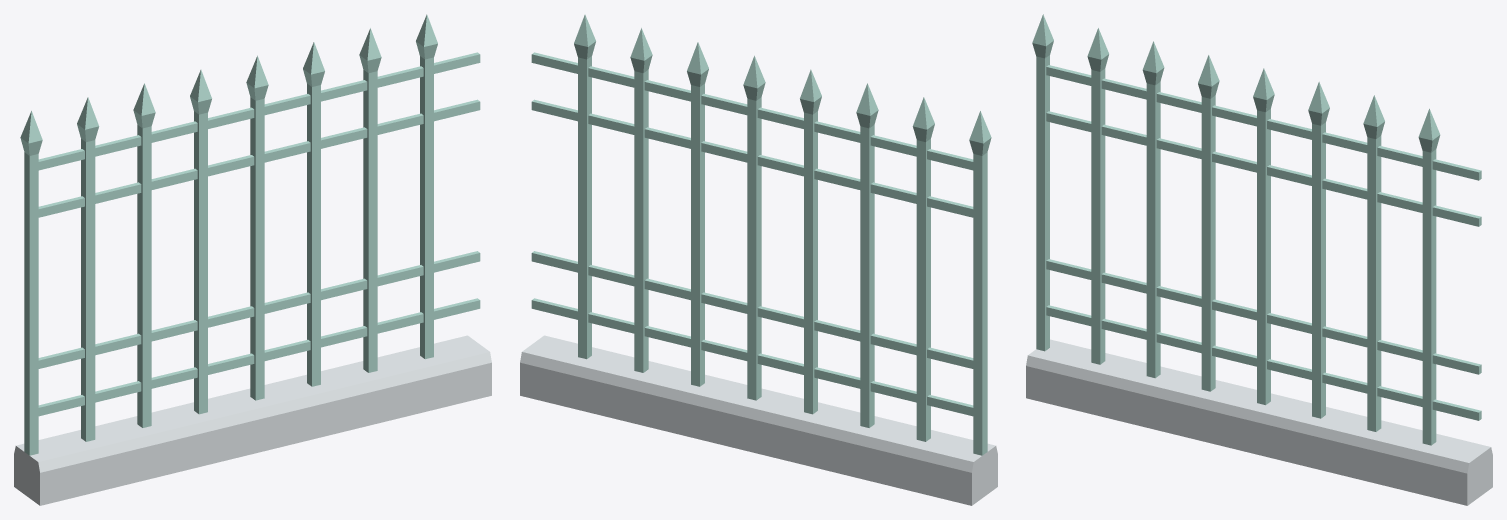
File: fenceIronBorder.glb
The picture shows the model from 3 angles, left to right: view 1: azimuth 30°, elevation 25°; view 2: azimuth 150°, elevation 25°; view 3: azimuth 330°, elevation 25°; orthographic projection. The views are drawn at different scales.
Visible parts, largest first — view 1: bar (×12), fenceIronBorder(Clone); view 2: bar (×12), fenceIronBorder(Clone); view 3: bar (×12), fenceIronBorder(Clone).
Part boxes in pixels (left/top/right/bottom): bar (×12): left=20, top=14, right=480, bottom=455; fenceIronBorder(Clone): left=14, top=335, right=491, bottom=505; bar (×12): left=531, top=14, right=991, bottom=455; fenceIronBorder(Clone): left=520, top=335, right=997, bottom=505; bar (×12): left=1032, top=14, right=1481, bottom=445; fenceIronBorder(Clone): left=1026, top=339, right=1492, bottom=505.
Bounding box in the file's own units: 1.01 × 0.8139 × 0.1.
